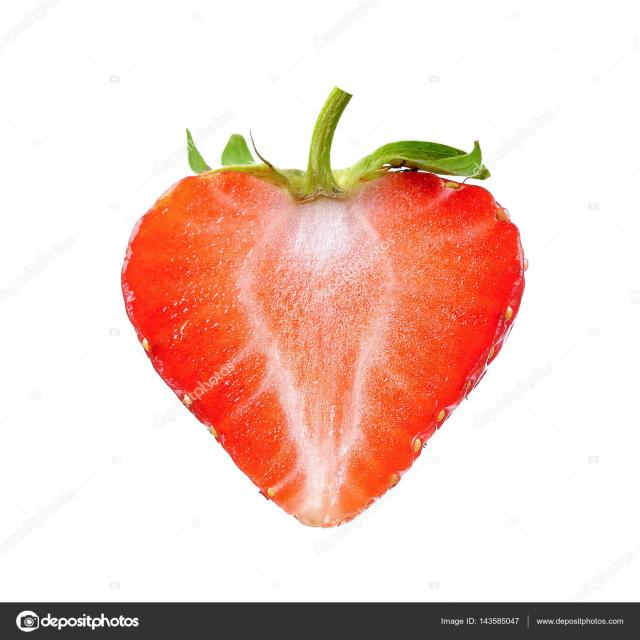strawberry: (110, 74, 548, 538)
